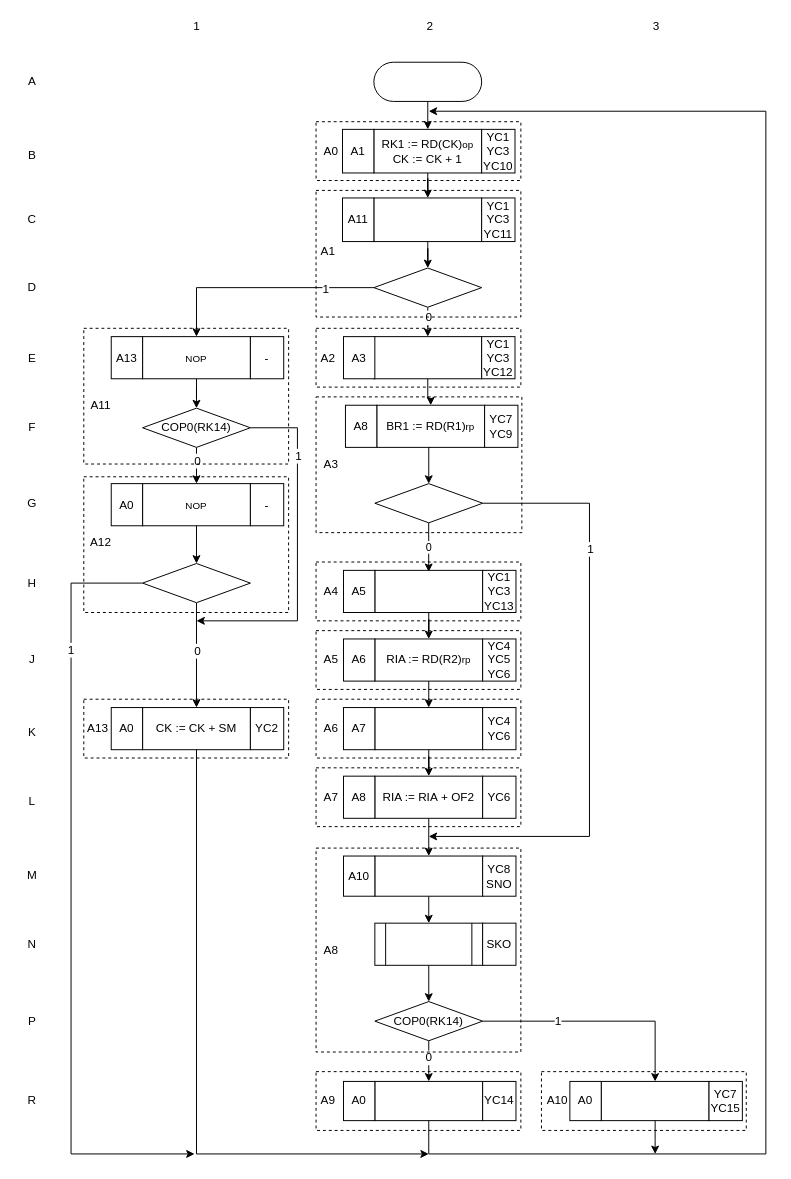
This 791x1179 diagram has some shape labels left out. Here are the shapes that lost their labels. From the top down, the centre of each, then its label:
(427,81): НАЧАЛО ЦИКЛА
(427,219): RK2 := RD(CK) op CK := CK + 1
(427,287): COP1(RK15)
(427,357): RK3 := RD(CK) op CK := CK + 1
(428,503): not PA2(RK9)
(196,583): not PR
(428,590): RK4 := RD(CK) op CK := CK + 1
(428,728): RIA := RD(RIA) op
(428,875): BR2 := RD(RIA) op or BR2 := RD(A2) op
(428,943): Выполнение операции в АЛУ
(428,1100): WR(RIA) op := RR or WR(A2) op := RR
(654,1100): WR(R1) rp := RR
